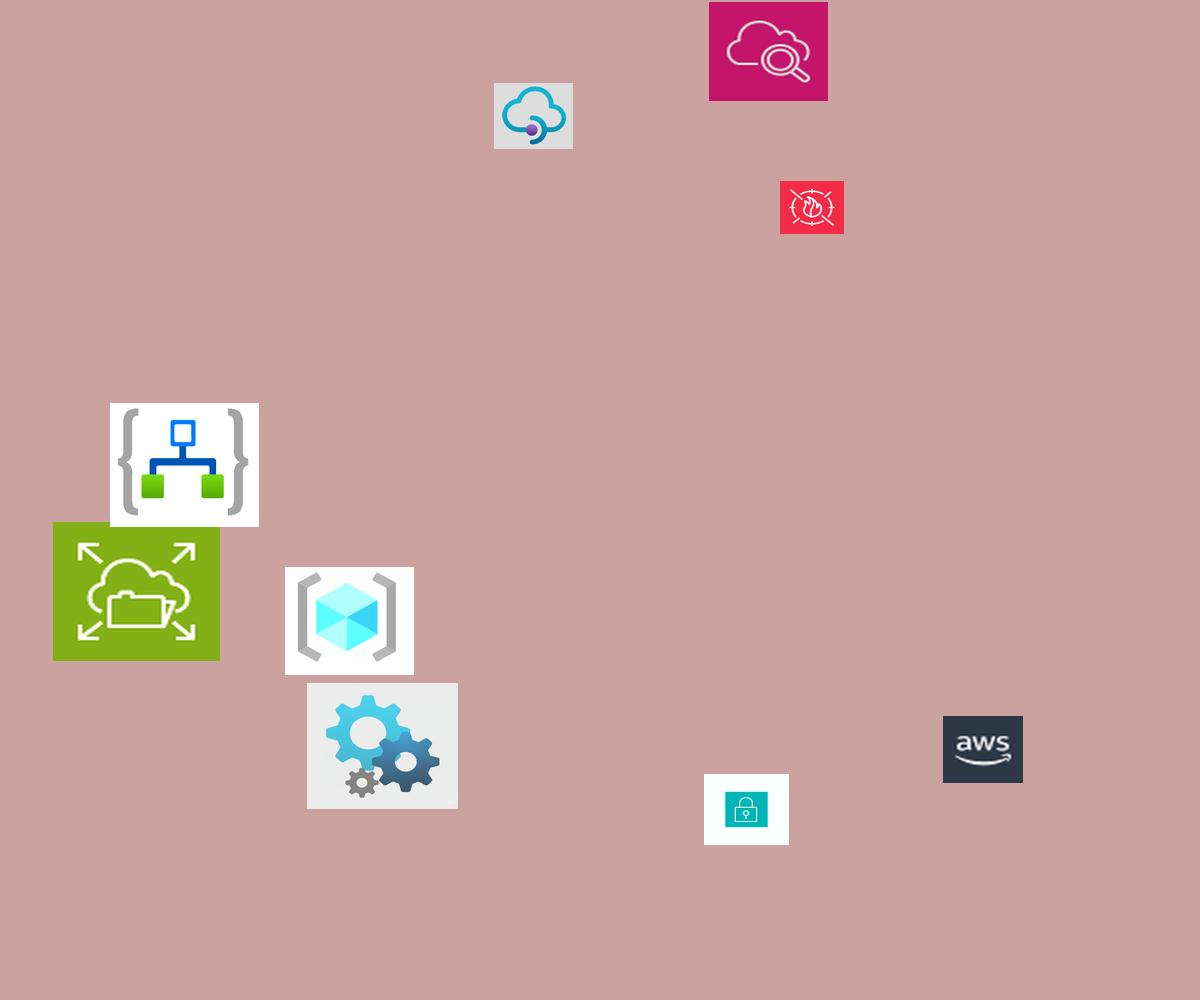AWS-Cloud-logo: (943, 716, 1023, 783)
AWS-CloudWatch: (709, 2, 828, 101)
AWS-EFS: (53, 522, 220, 661)
AWS-Private-subnet: (704, 774, 789, 845)
AWS-WAF: (780, 181, 844, 234)
Azure_api: (307, 683, 458, 809)
Azure_api_gateway: (494, 83, 573, 149)
Azure_integration-204-Logic-Apps: (110, 403, 259, 527)
Azure_resource_group: (285, 567, 414, 675)
